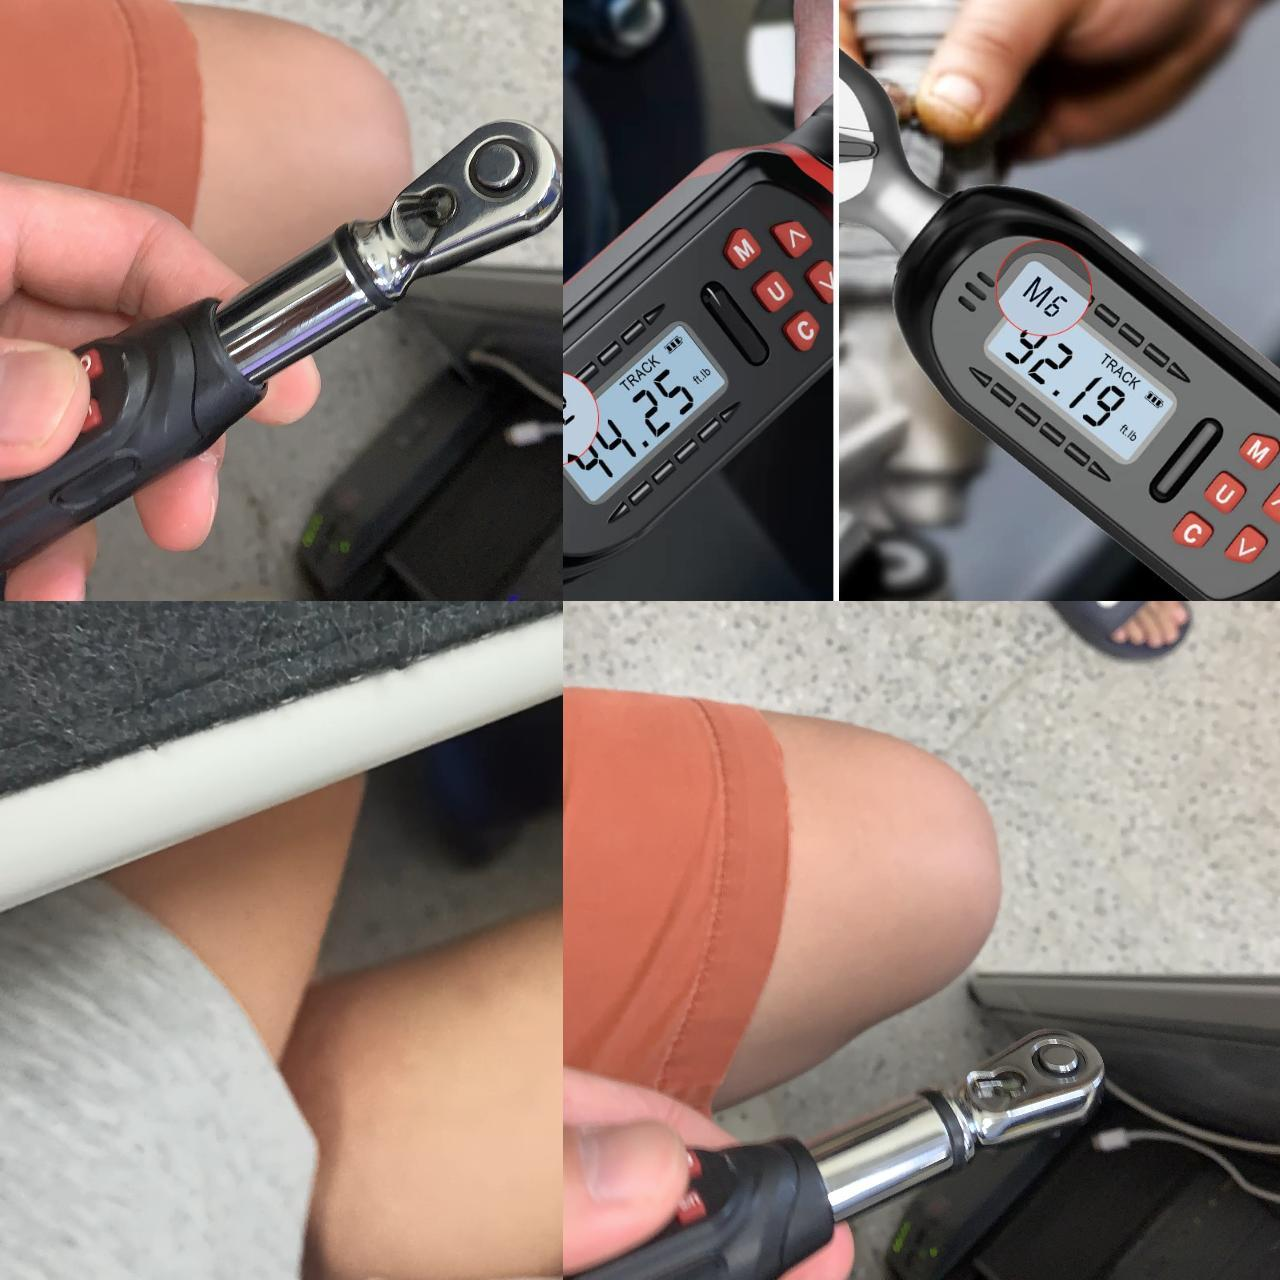Tool: (338, 110, 563, 300), (944, 1024, 1107, 1150)
